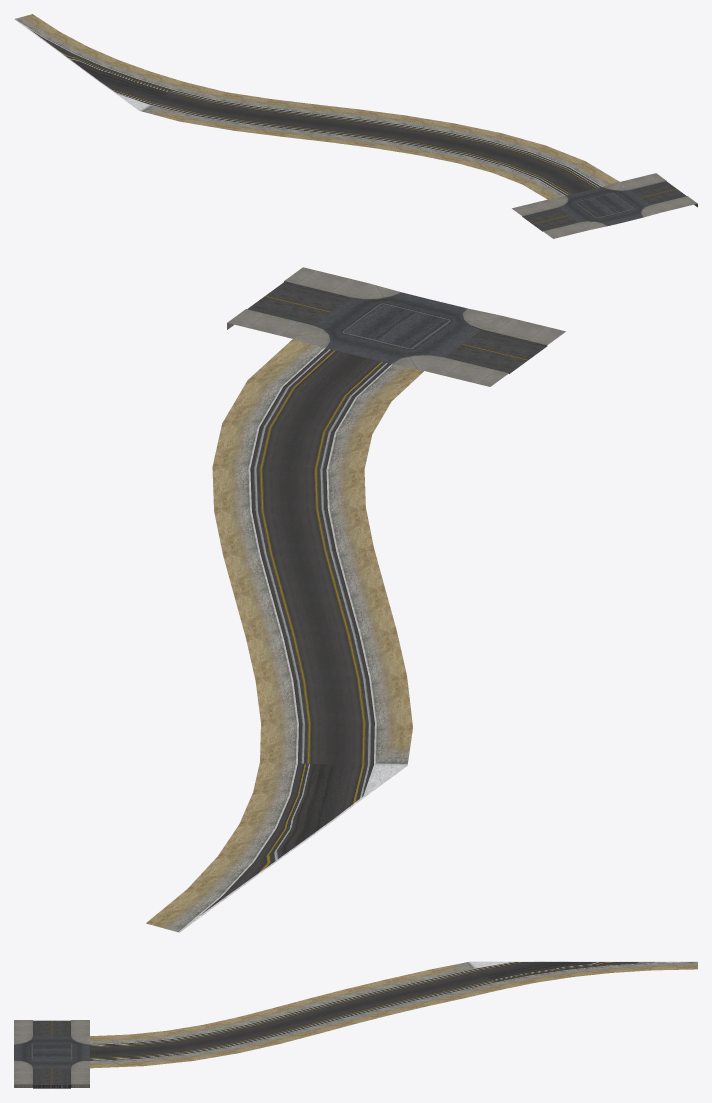
File: vegaseroad067.obj
3 views of the same model, one above another, from view 1: azimuth 30°, elevation 25°; view 2: azimuth 150°, elevation 25°; view 3: azimuth 270°, elevation 25° (orthographic). The views are drawn at different scales.
Parts seen in each view (by area): view 1: vegasEroad067; view 2: vegasEroad067; view 3: vegasEroad067.
Boxes of the visible parts, left/top/right/bottom form: vegasEroad067: left=14, top=14, right=697, bottom=238; vegasEroad067: left=146, top=267, right=565, bottom=932; vegasEroad067: left=14, top=961, right=697, bottom=1088.
Bounding box in the file's own units: 85.31 × 4.44 × 180.
Materials: 10 (10 with a texture image).
